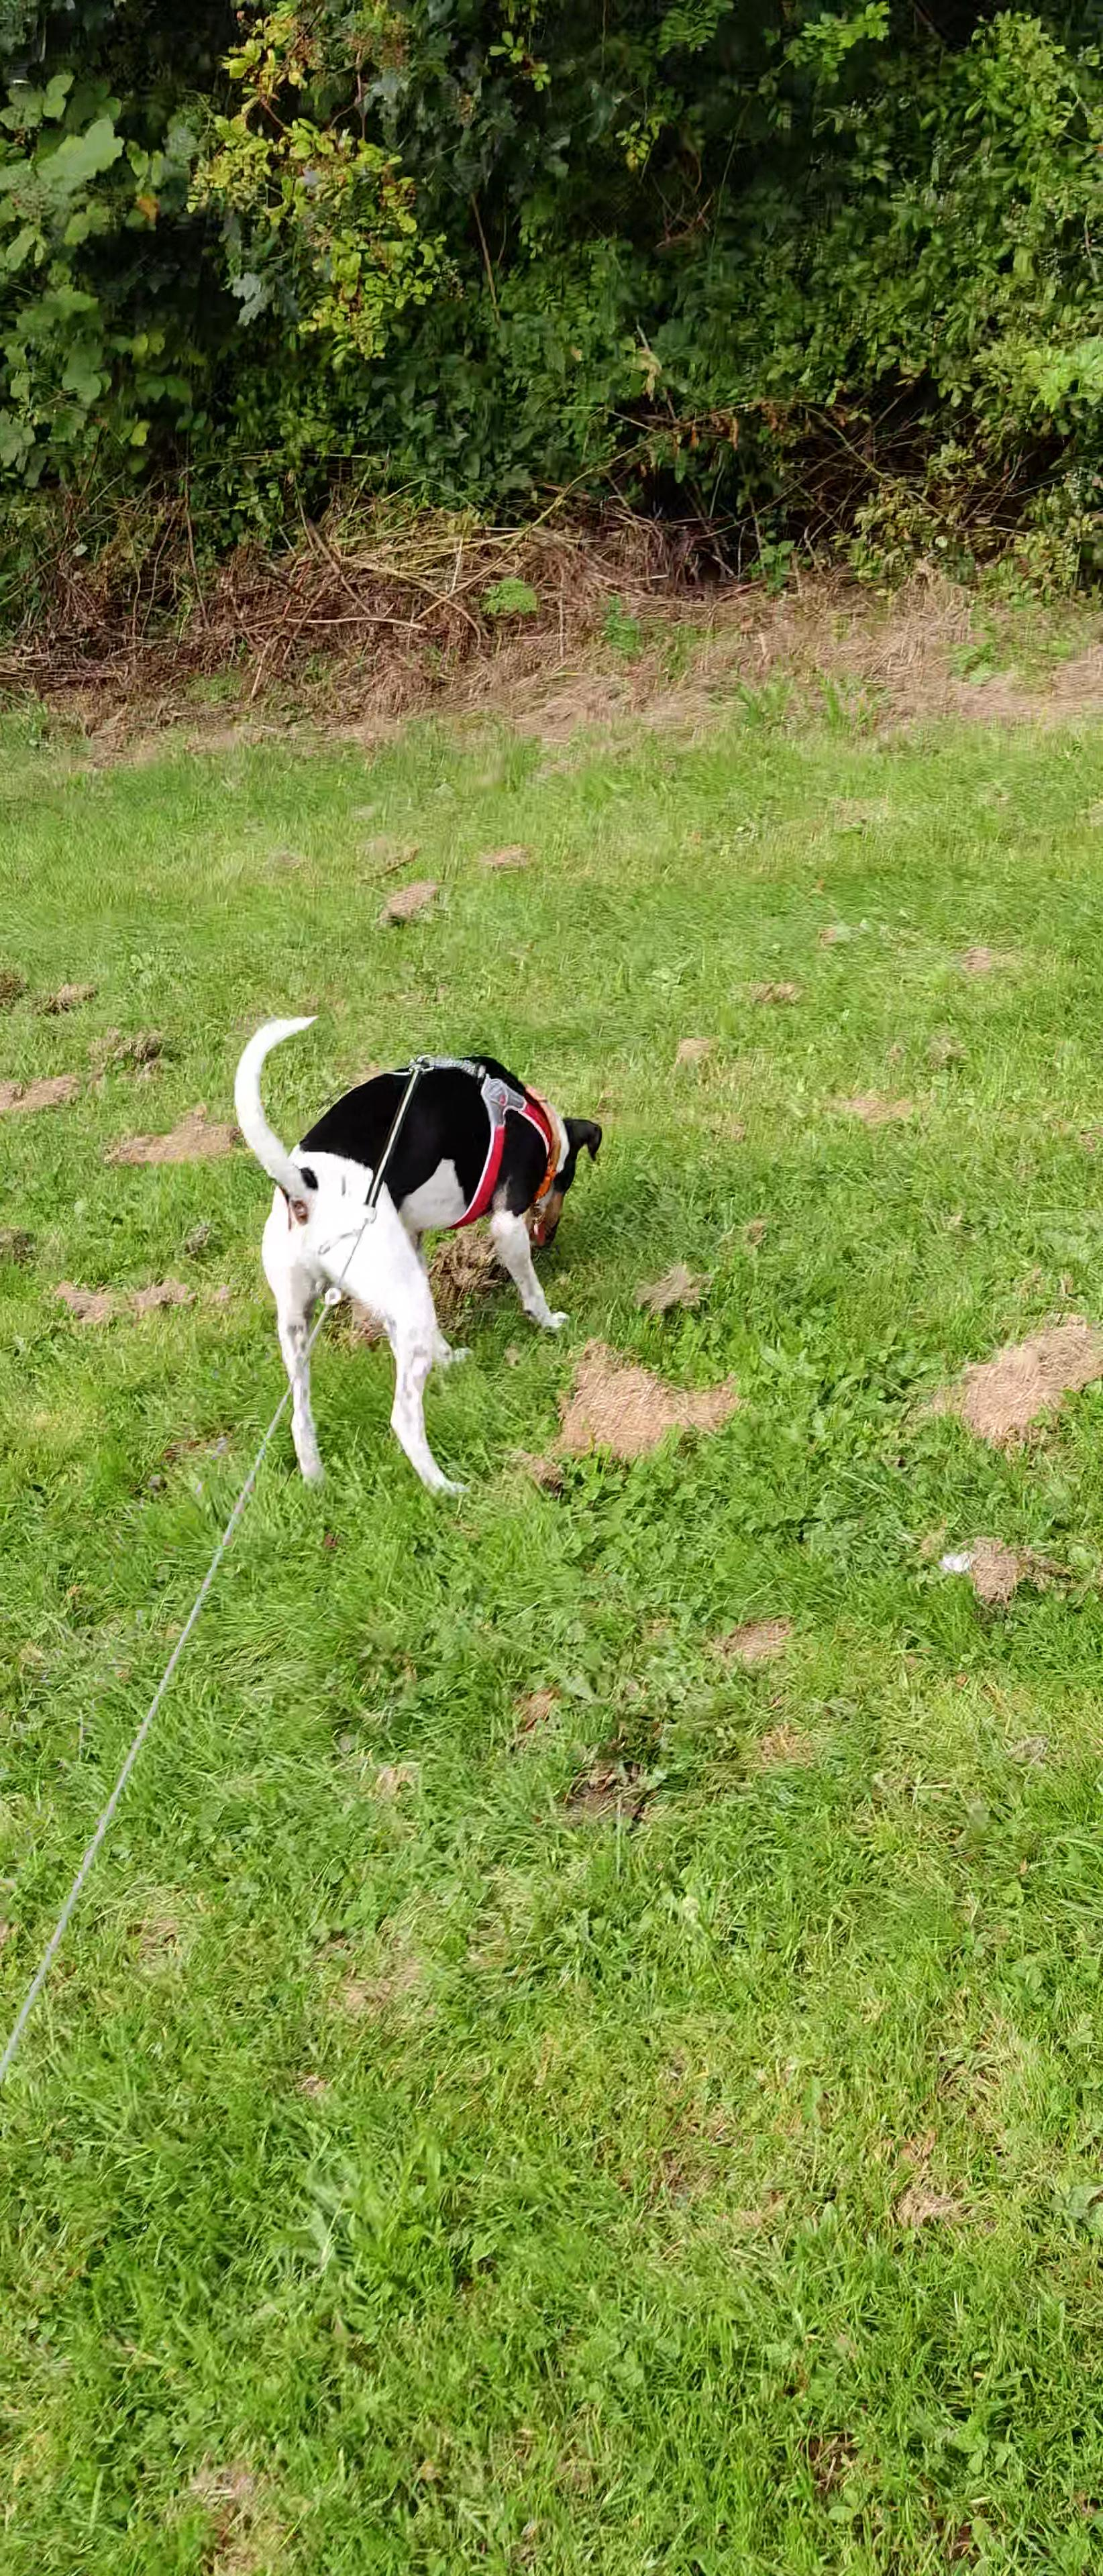Dog: (219, 999, 620, 1503)
